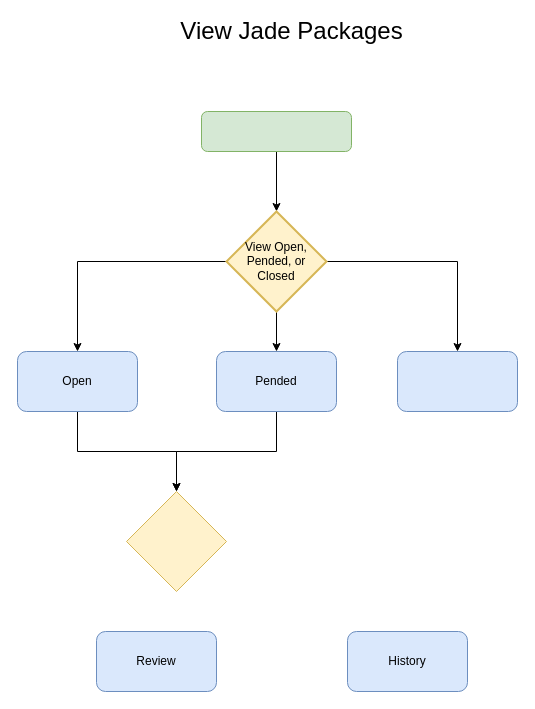
The diagram is 535 pixels wide and 709 high, and some of its shapes have lost their labels. Each missing label, with the centre of its shape:
"Closed" belongs at pixel 457 381.
"Review or View History" belongs at pixel 176 541.
"Start" belongs at pixel 276 131.
